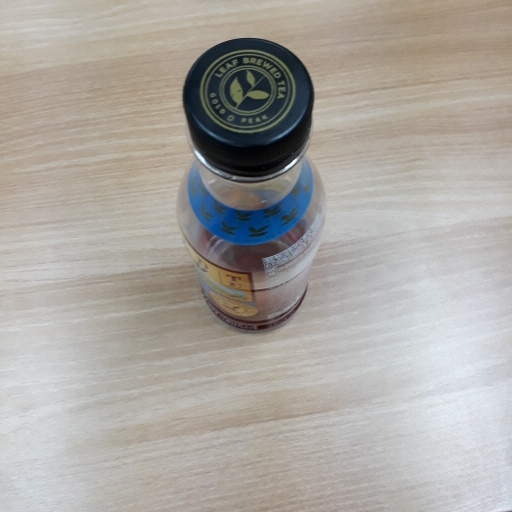Plastic_0: (174, 35, 329, 336)
